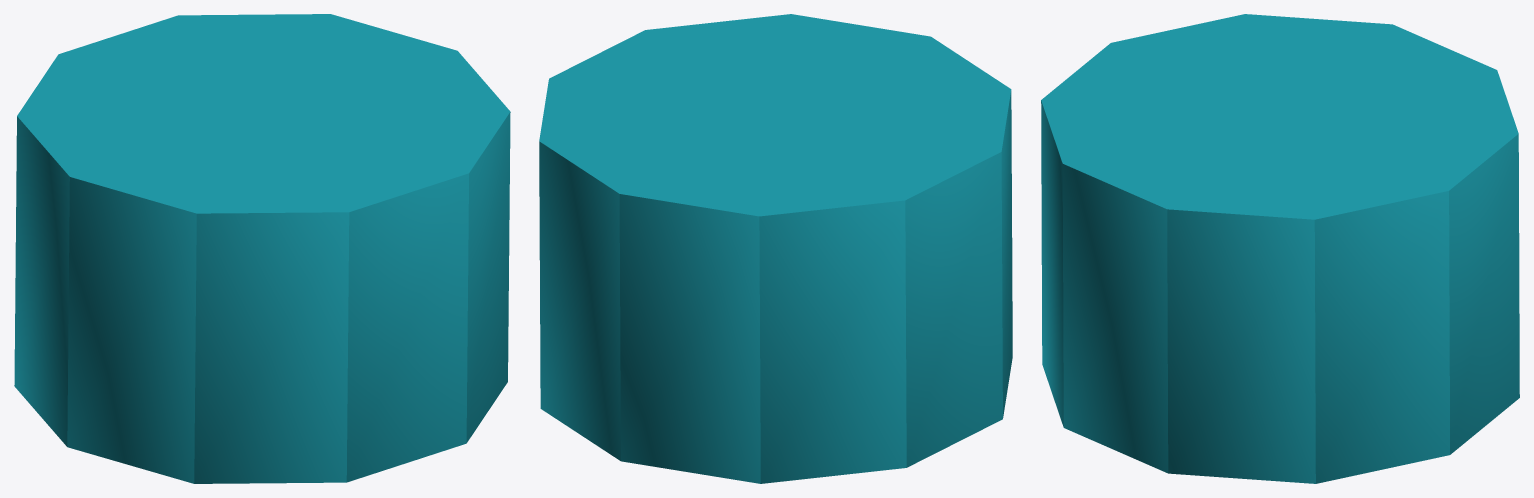
The model's file is Blocker_Edge_Ring.fbx.
The picture shows the model from 3 angles, left to right: view 1: azimuth 30°, elevation 25°; view 2: azimuth 150°, elevation 25°; view 3: azimuth 270°, elevation 25°; orthographic projection.
Visible parts, largest first — view 1: Blocker_Edge_Ring; view 2: Blocker_Edge_Ring; view 3: Blocker_Edge_Ring.
Part boxes in pixels (<box>): Blocker_Edge_Ring: <box>14,14,510,483</box>; Blocker_Edge_Ring: <box>539,14,1012,483</box>; Blocker_Edge_Ring: <box>1041,14,1519,483</box>.
Size of the model in its own units: 1.07 by 0.66 by 1.06.
